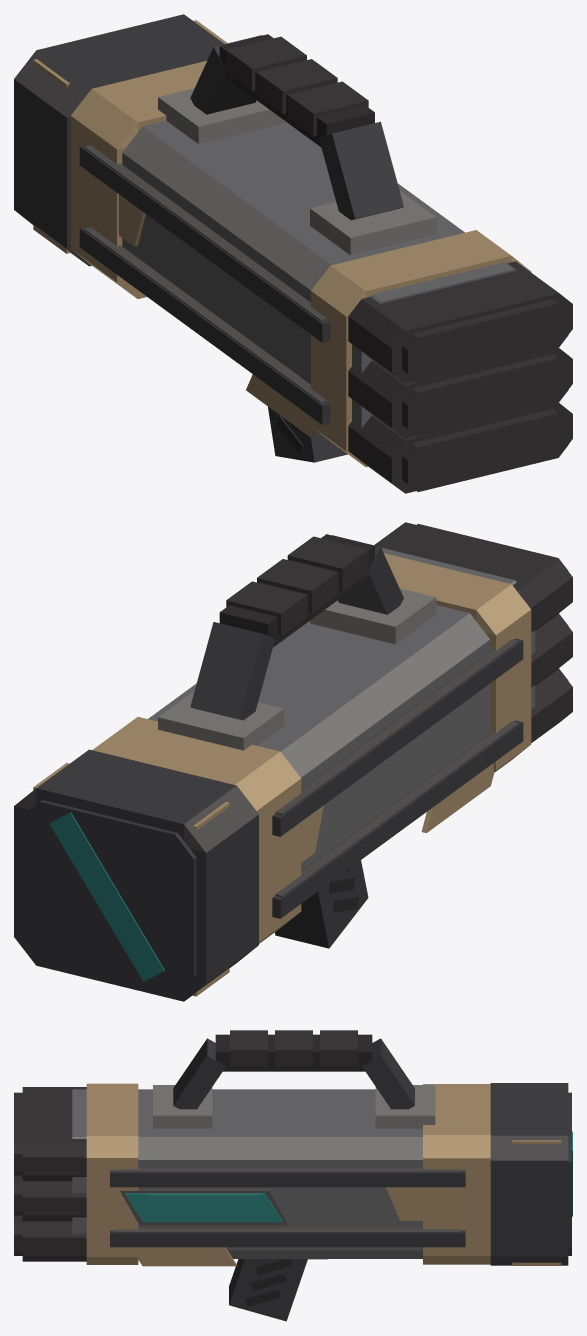
File: rocket-launcher.glb
3 views of the same model, one above another, from view 1: azimuth 30°, elevation 25°; view 2: azimuth 150°, elevation 25°; view 3: azimuth 270°, elevation 25° (orthographic). The views are drawn at different scales.
Visible parts, largest first — view 1: Slate body center, Slate body left, Slate body left upper, Closed graphite cap center, Closed graphite cap left, Rear pad middle inset center, Rear pad lower inset center, Rear pad upper inset center, Rear pad upper center, Sand aft collar center, Carry bridge rear arm, Graphite left lower rail (+27 smaller); view 2: Recessed end face center, Slate body center, Slate body left, Closed graphite cap center, Closed graphite cap left, Slate body left upper, Sand forward collar center, Carry bridge front arm, Graphite left lower rail, Graphite left upper rail, Rear pad upper center, Diagonal teal paint (+26 smaller); view 3: Slate body center, Slate body right, Closed graphite cap right, Slate body right upper, Graphite right upper rail, Graphite right lower rail, Sand forward collar right, Closed graphite cap center, Sand aft collar right, Offset teal plate face, Sand forward collar center, Rear pad upper center (+31 smaller).
Boxes of the visible parts, x1,y1,x2,y2 form: Slate body center: [143, 120, 514, 303]; Slate body left: [122, 153, 372, 428]; Slate body left upper: [122, 126, 381, 303]; Closed graphite cap center: [36, 14, 224, 266]; Closed graphite cap left: [14, 79, 70, 248]; Rear pad middle inset center: [412, 354, 558, 437]; Rear pad lower inset center: [412, 409, 558, 491]; Rear pad upper inset center: [412, 299, 558, 382]; Rear pad upper center: [362, 261, 559, 383]; Sand aft collar center: [331, 230, 511, 466]; Carry bridge rear arm: [319, 121, 403, 220]; Graphite left lower rail: [79, 226, 330, 424]; Recessed end face center: [40, 800, 176, 991]; Slate body center: [148, 548, 514, 751]; Slate body left: [301, 630, 535, 870]; Closed graphite cap center: [36, 749, 236, 1001]; Closed graphite cap left: [190, 814, 258, 983]; Slate body left upper: [281, 580, 516, 777]; Sand forward collar center: [92, 717, 279, 784]; Carry bridge front arm: [190, 622, 274, 720]; Graphite left lower rail: [272, 720, 523, 918]; Graphite left upper rail: [272, 638, 523, 836]; Rear pad upper center: [374, 522, 558, 590]; Diagonal teal paint: [49, 812, 164, 981]; Slate body center: [72, 1089, 422, 1136]; Slate body right: [72, 1160, 422, 1250]; Closed graphite cap right: [490, 1160, 568, 1256]; Slate body right upper: [72, 1137, 422, 1159]; Graphite right upper rail: [110, 1170, 465, 1187]; Graphite right lower rail: [110, 1230, 465, 1247]; Sand forward collar right: [423, 1158, 490, 1255]; Closed graphite cap center: [490, 1083, 568, 1135]; Sand aft collar right: [86, 1158, 138, 1256]; Offset teal plate face: [143, 1193, 264, 1222]; Sand forward collar center: [423, 1084, 490, 1134]; Rear pad upper center: [22, 1087, 86, 1142].
Size of the model in its own units: 1.12 by 1.97 by 3.68.
